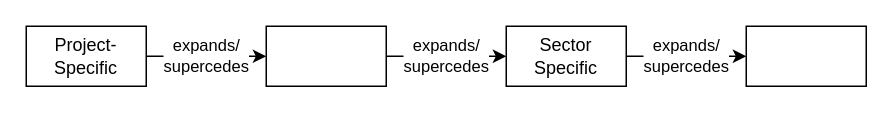
The diagram is 893 pixels wide and 113 high, and some of its shapes have lost their labels. Here are the shapes that lost their labels. From the top down, the centre of each, then its label:
At point (325, 55): "Organisation Specific".
At point (805, 55): "IT Industry Baseline".
